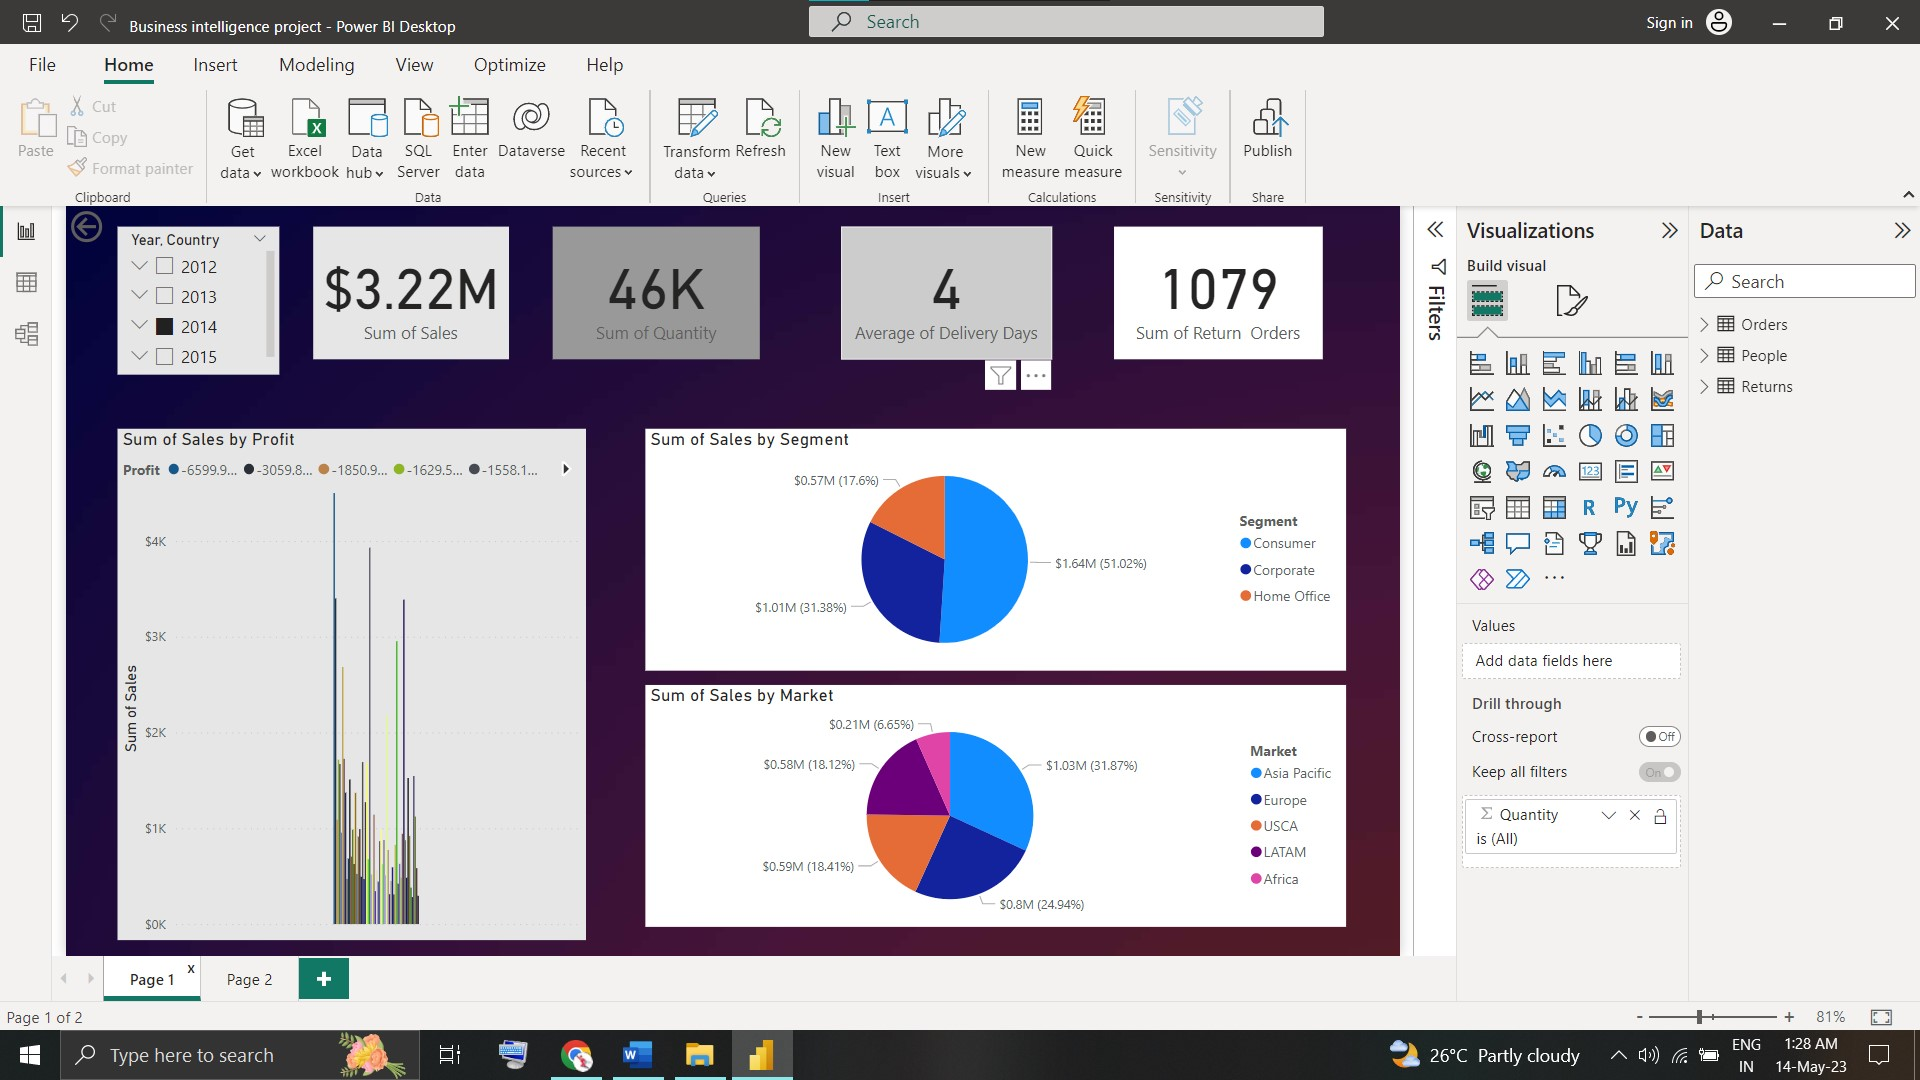

Layout of this report page (visuals, bound fields, positions):
{"tool":"powerbi","page":{"name":"Page 1","canvas":[1280,720],"ordinal":0},"visuals":[{"type":"card","fields":{"Values":["Sum(Orders.Sales)"]},"box":[237.3,19.8,187.8,127.3],"z":0},{"type":"card","fields":{"Values":["Sum(Orders.Quantity)"]},"box":[467.2,19.8,199,127.3],"z":1000},{"type":"card","fields":{"Values":["Avg(Orders.Delivery Days)"]},"box":[744,19.8,202.7,127.3],"z":2000},{"type":"actionButton","box":[0,0,100,40],"z":3000},{"type":"slicer","fields":{"Values":["Orders.Year","Orders.Country"]},"box":[49.4,19.8,155.7,142.1],"z":4000},{"type":"card","fields":{"Values":["Sum(Returns.Return  Orders)"]},"box":[1006,19.8,200.2,127.3],"z":5000},{"type":"lineClusteredColumnComboChart","fields":{"Series":["Orders.Profit"],"Y":["Sum(Orders.Sales)"]},"box":[49.4,213.8,449.9,490.6],"z":6000},{"type":"pieChart","fields":{"Category":["Orders.Segment"],"Y":["Sum(Orders.Sales)"]},"box":[556.1,213.8,672.3,232.3],"z":7000},{"type":"pieChart","fields":{"Category":["Orders.Market"],"Y":["Sum(Orders.Sales)"]},"box":[556.1,459.7,672.3,232.3],"z":8000}]}

Visuals, with their boxes on the page's 1280x720 design canvas (x1, y1, x2, y2). These are canvas units, not pixel positions in the 1920x1080 screenshot, which may show the page scaled, cropped or inside an application window:
card - Sum(Orders.Sales): region(237, 20, 425, 147)
card - Sum(Orders.Quantity): region(467, 20, 666, 147)
card - Avg(Orders.Delivery Days): region(744, 20, 947, 147)
actionButton: region(0, 0, 100, 40)
slicer - Orders.Year x Orders.Country: region(49, 20, 205, 162)
card - Sum(Returns.Return  Orders): region(1006, 20, 1206, 147)
lineClusteredColumnComboChart - Orders.Profit x Sum(Orders.Sales): region(49, 214, 499, 704)
pieChart - Orders.Segment x Sum(Orders.Sales): region(556, 214, 1228, 446)
pieChart - Orders.Market x Sum(Orders.Sales): region(556, 460, 1228, 692)
